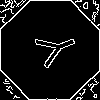Y: (25, 25, 81, 74)
